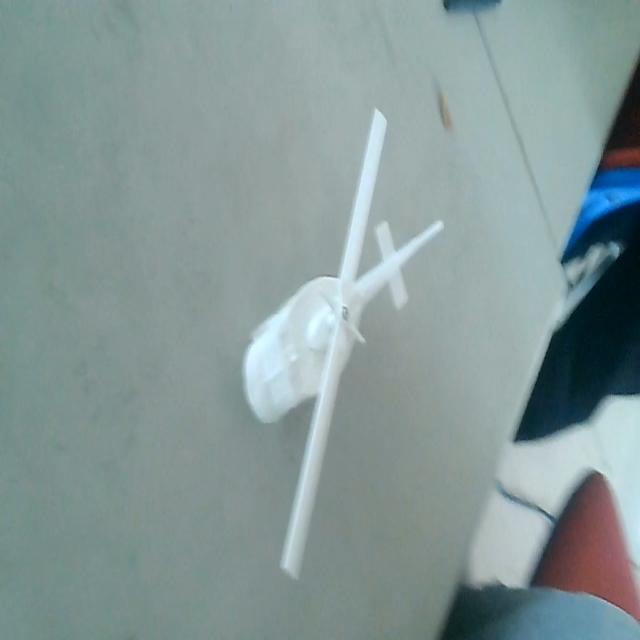Helicopter: (243, 106, 445, 584)
